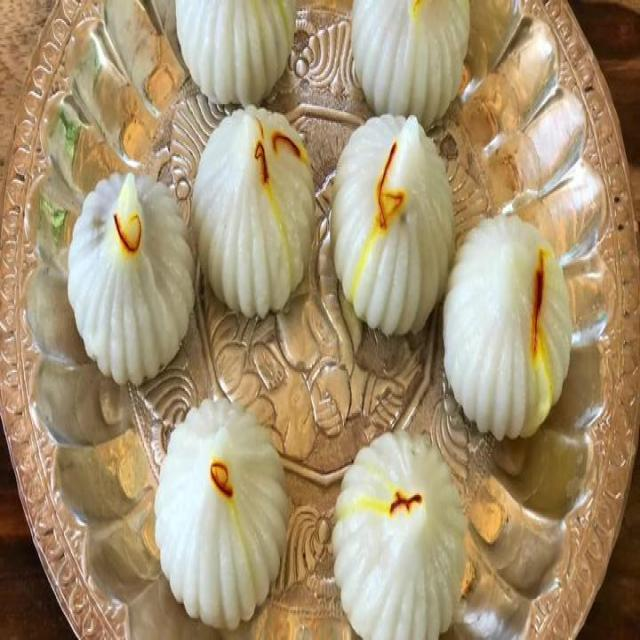modak: (198, 0, 550, 590)
